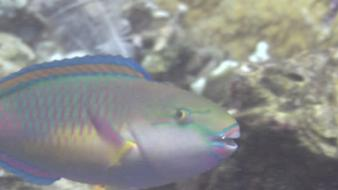Scaridae -Parrotfishes-: (0, 52, 241, 190)
